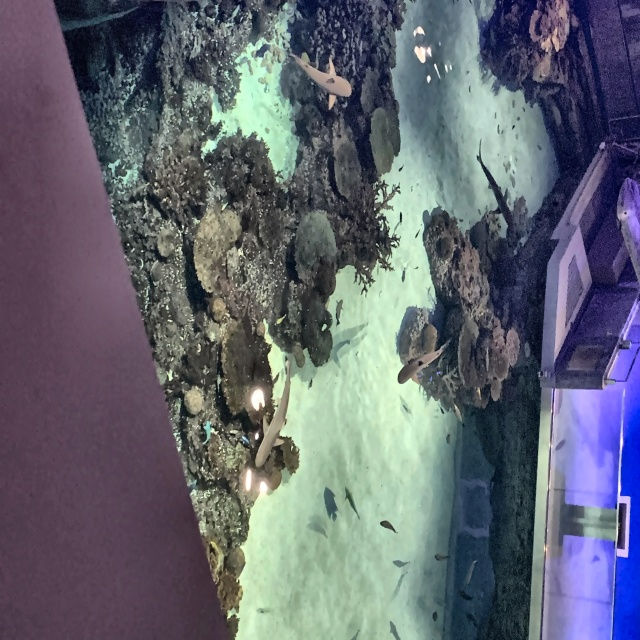fish: (343, 485, 362, 521), (462, 558, 478, 591), (332, 297, 344, 328), (379, 519, 399, 535), (451, 403, 464, 426), (239, 433, 254, 450), (202, 419, 211, 446), (471, 385, 483, 404), (433, 552, 451, 562), (188, 478, 198, 495), (436, 401, 445, 417), (397, 210, 404, 226), (400, 266, 407, 282), (413, 228, 421, 239), (229, 429, 241, 436), (398, 163, 405, 174), (511, 124, 515, 131)
shark: (472, 138, 518, 234), (253, 358, 292, 469), (282, 51, 352, 109), (397, 335, 453, 386)
